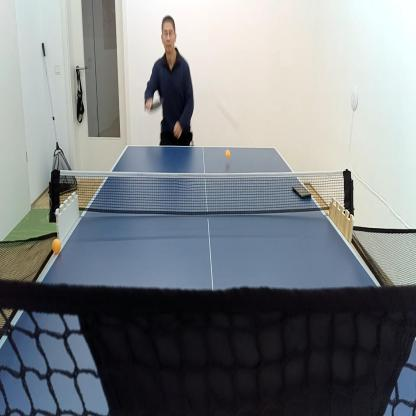Ball: (216, 96, 242, 134), (51, 237, 62, 256), (224, 147, 232, 160)
